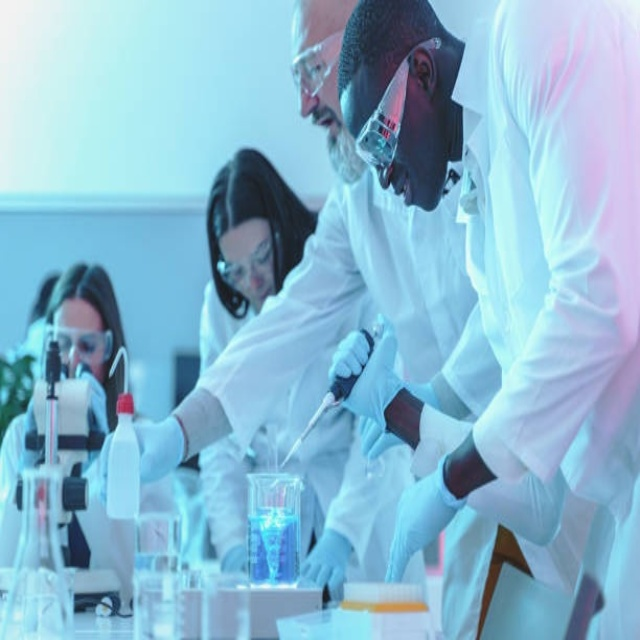Gafas: (356, 37, 443, 180), (292, 28, 347, 99), (218, 233, 274, 289), (44, 325, 114, 365)
Guantes: (383, 455, 457, 584), (99, 405, 186, 505), (329, 307, 403, 417), (301, 522, 351, 605)
Sin_mascara: (381, 165, 434, 215)
